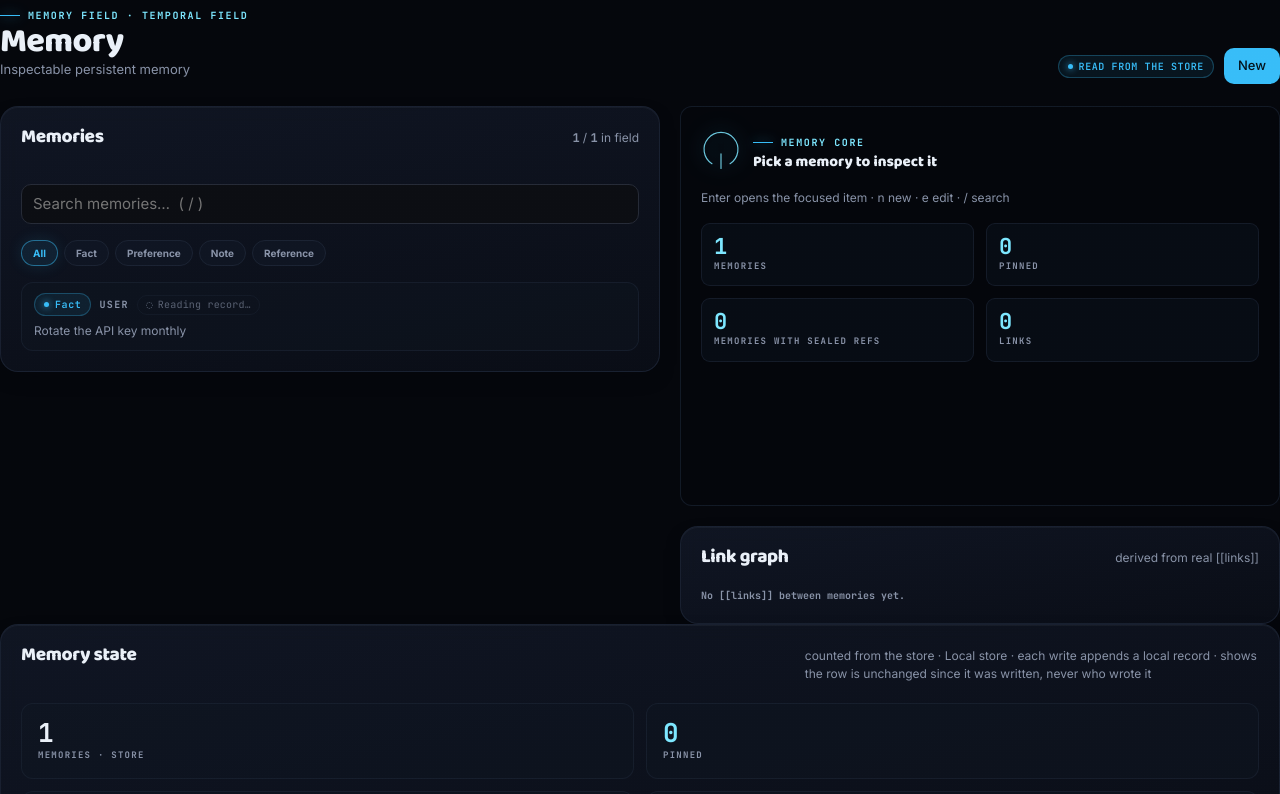
Scenario: Memory — a REFUSED delete is surfaced, never swallowed › keeps the entry, shows the refusal with its reason, and says nothing was removed
Click the text "Rotate the API key monthly".
click(110, 331)  # box x1=34 y1=322 x2=186 y2=340
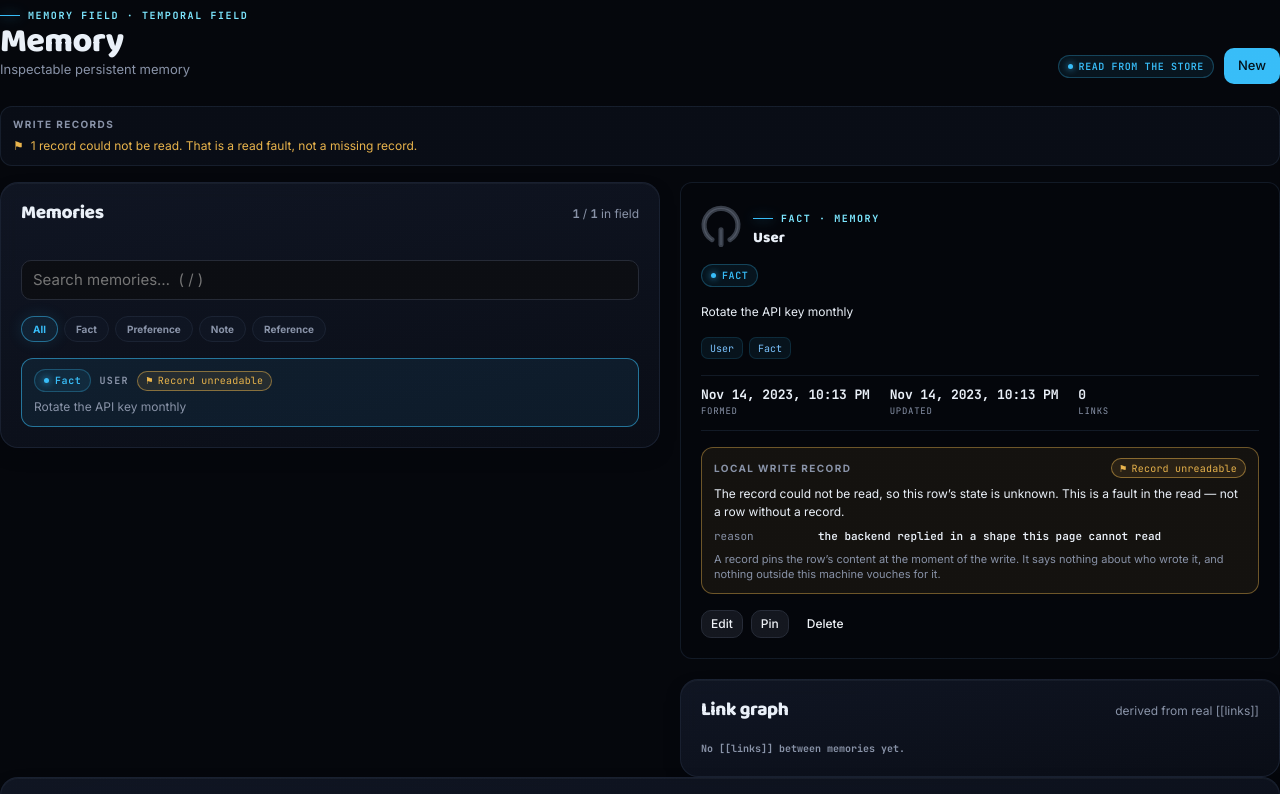
Expected: the button "Delete" is shown
Click the button "Delete".
click(825, 624)  # box x1=797 y1=610 x2=854 y2=638
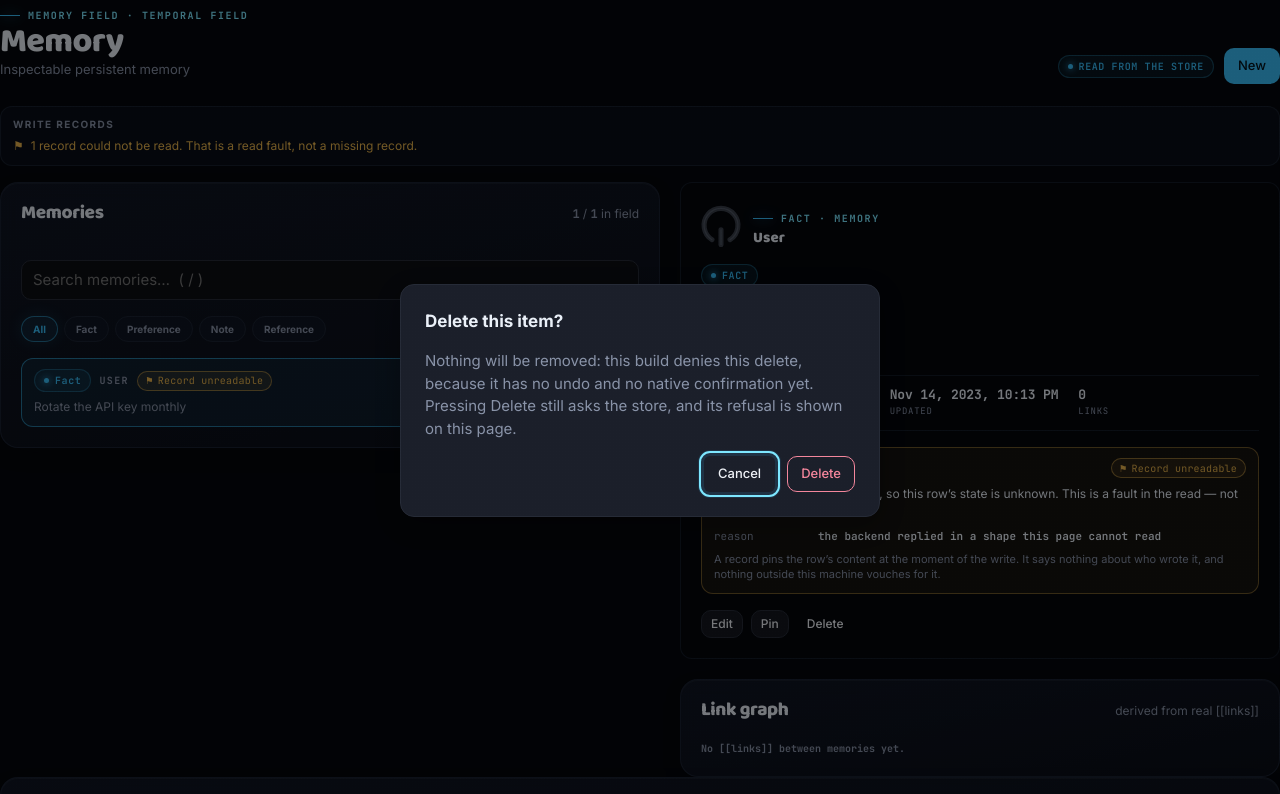
Expected: the dialog does not show "cannot be undone", x1=400 y1=284 x2=880 y2=516
Expected: the dialog shows "Nothing will be removed", x1=425 y1=351 x2=842 y2=438
Expected: the button "Delete" is shown
Click the button "Delete".
click(821, 474)  # box x1=787 y1=456 x2=855 y2=492
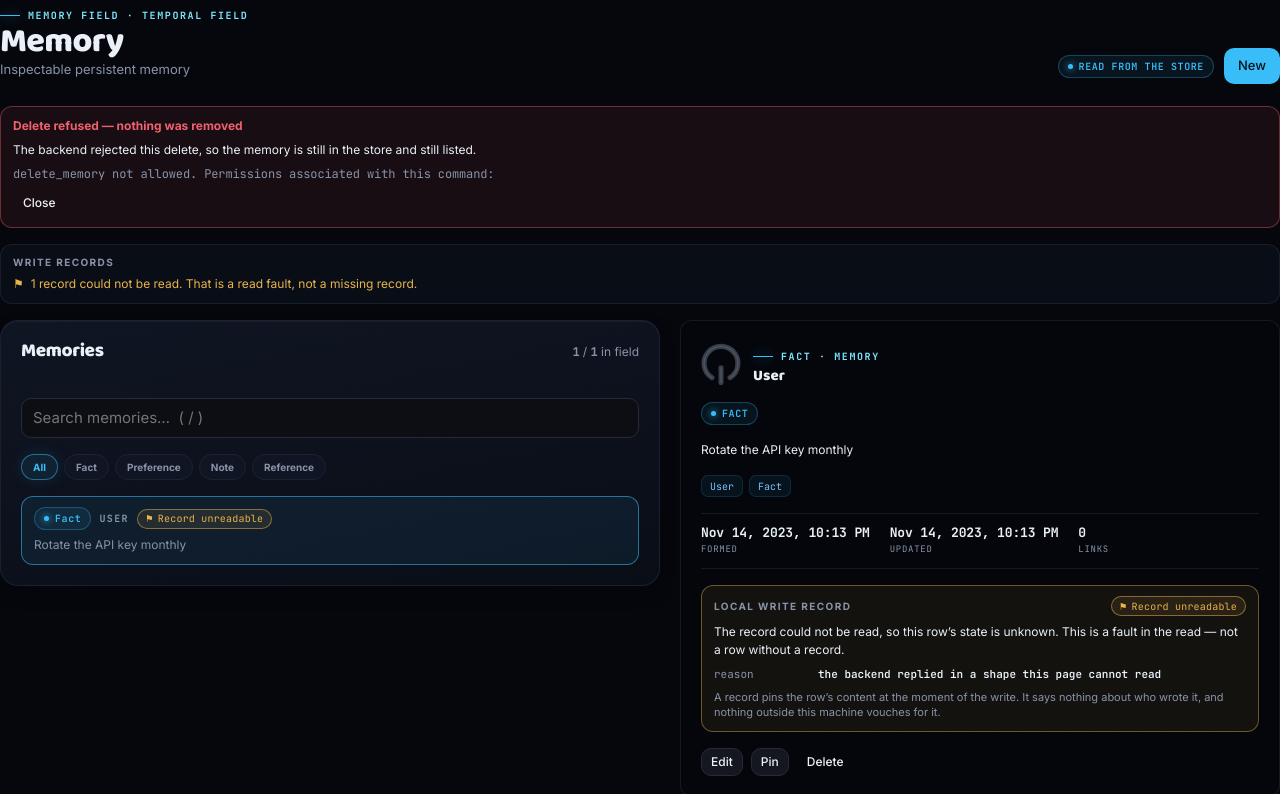
Expected: the message that starts with "Delete refused — nothing was removed" is shown, x1=13 y1=118 x2=243 y2=133
Expected: the message that starts with "Delete refused — nothing was removed" shows "still in the store", x1=13 y1=142 x2=476 y2=157
Expected: the message that starts with "Delete refused — nothing was removed" shows "delete_memory not allowed", x1=13 y1=166 x2=494 y2=182
